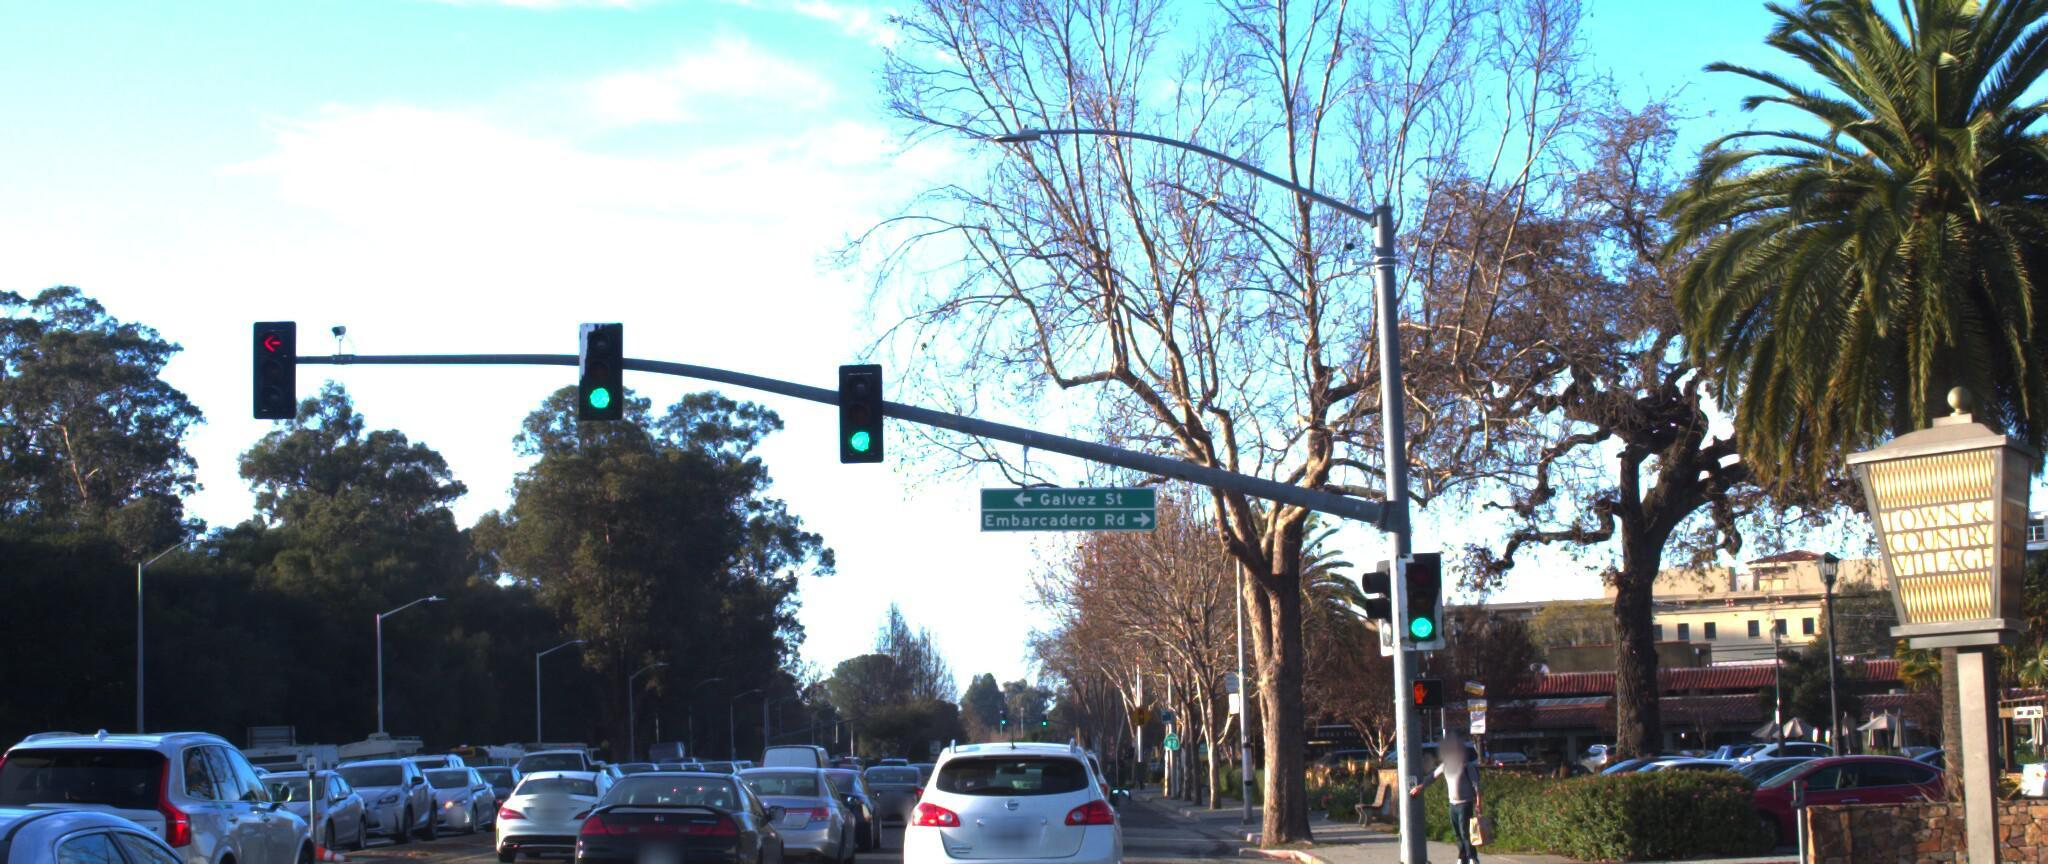car: (1672, 726, 2005, 843), (888, 713, 1128, 864), (579, 737, 794, 864), (696, 733, 854, 864), (71, 714, 232, 841), (491, 724, 633, 848), (212, 745, 374, 852), (300, 731, 445, 841), (496, 719, 613, 812), (383, 741, 498, 827), (844, 736, 931, 810)
